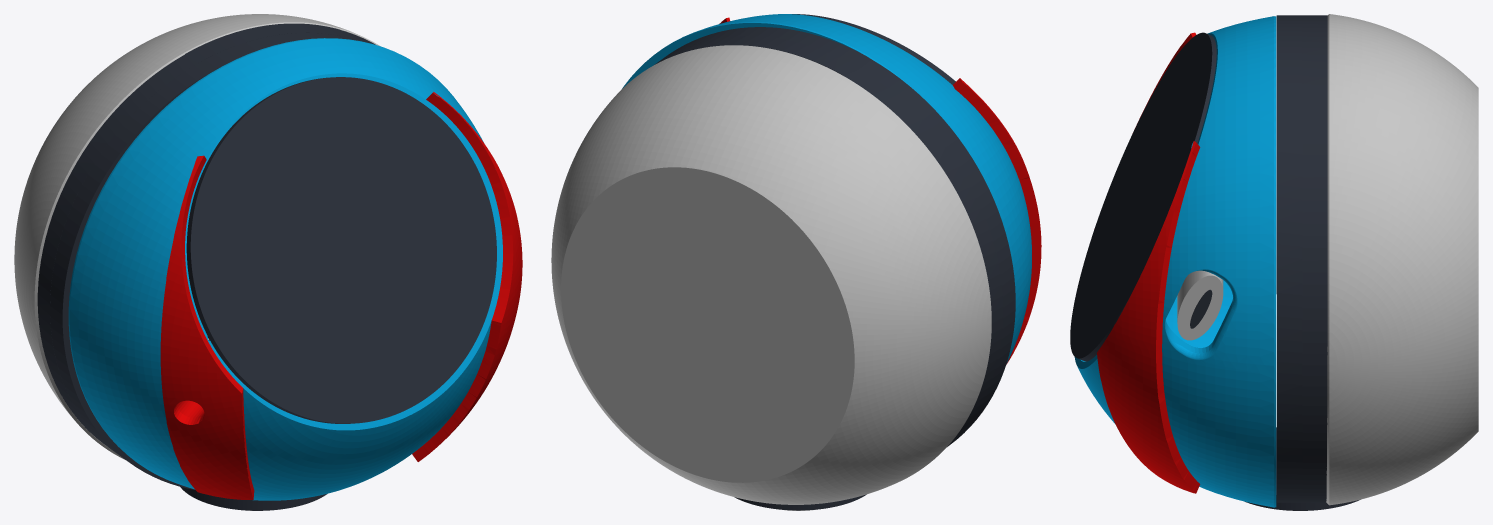
File: poketama-great-screen.glb
3 views of the same model, side by side, from view 1: azimuth 30°, elevation 25°; view 2: azimuth 150°, elevation 25°; view 3: azimuth 270°, elevation 25° (orthographic).
Size of the model in its own units: 1.96 by 2 by 1.6.
